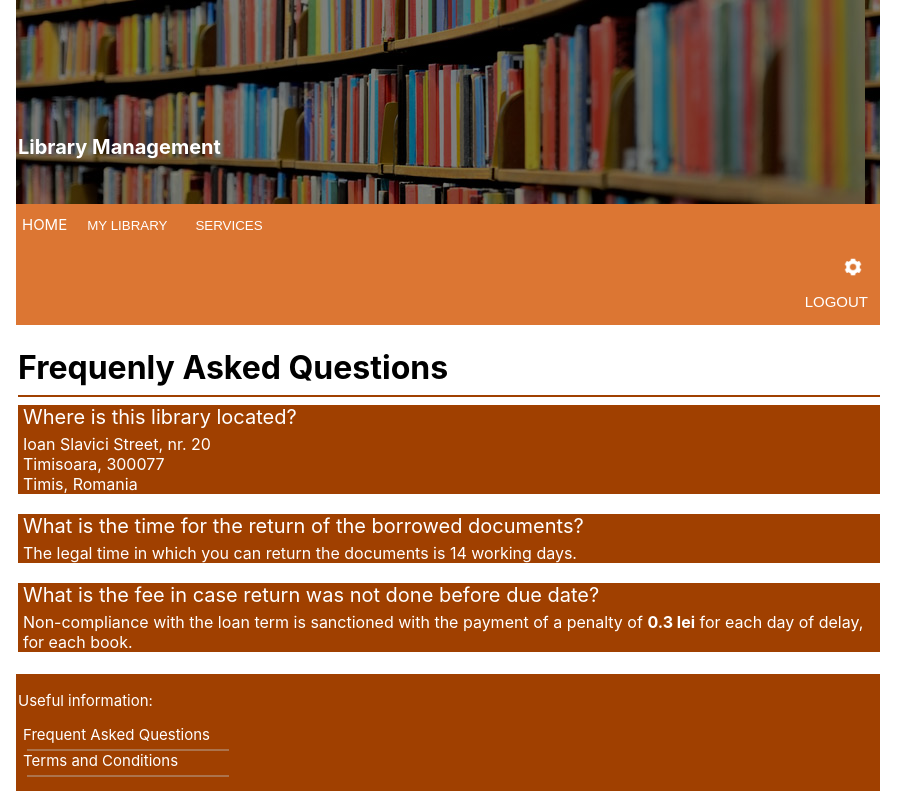
Test: Menu buttons tests › Given any input then the Contact page loads
The width and height of the screenshot is (899, 808).
Click the link "HOME" at (45, 224), box x1=22 y1=215 x2=67 y2=234
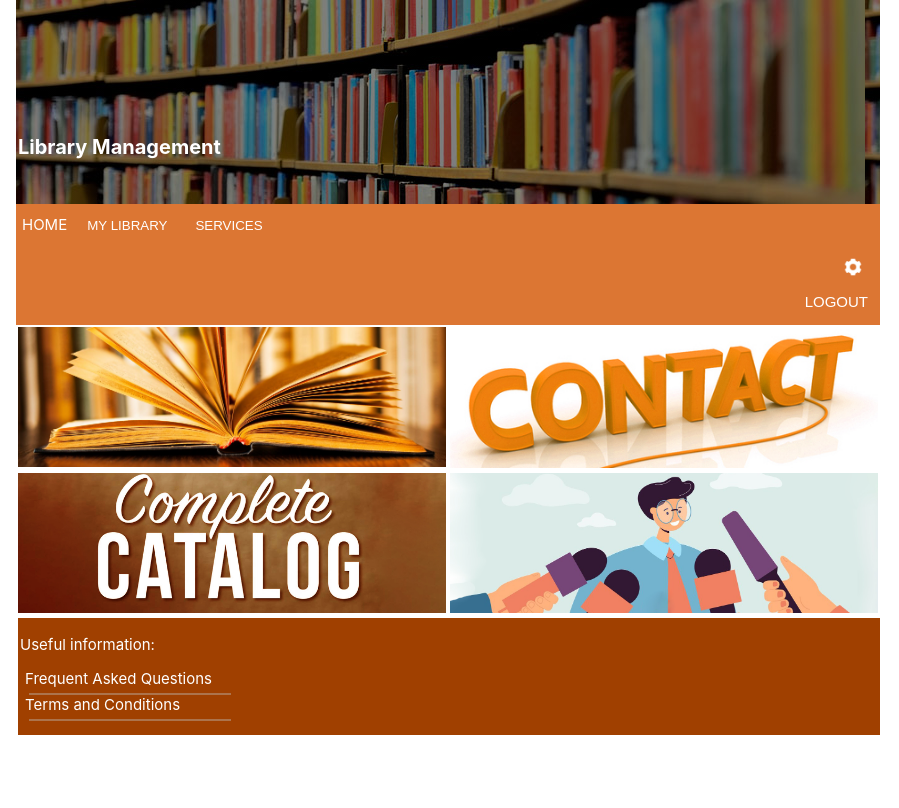
Click the 3rd link "CONTACT" at (666, 397), box x1=450 y1=327 x2=882 y2=468
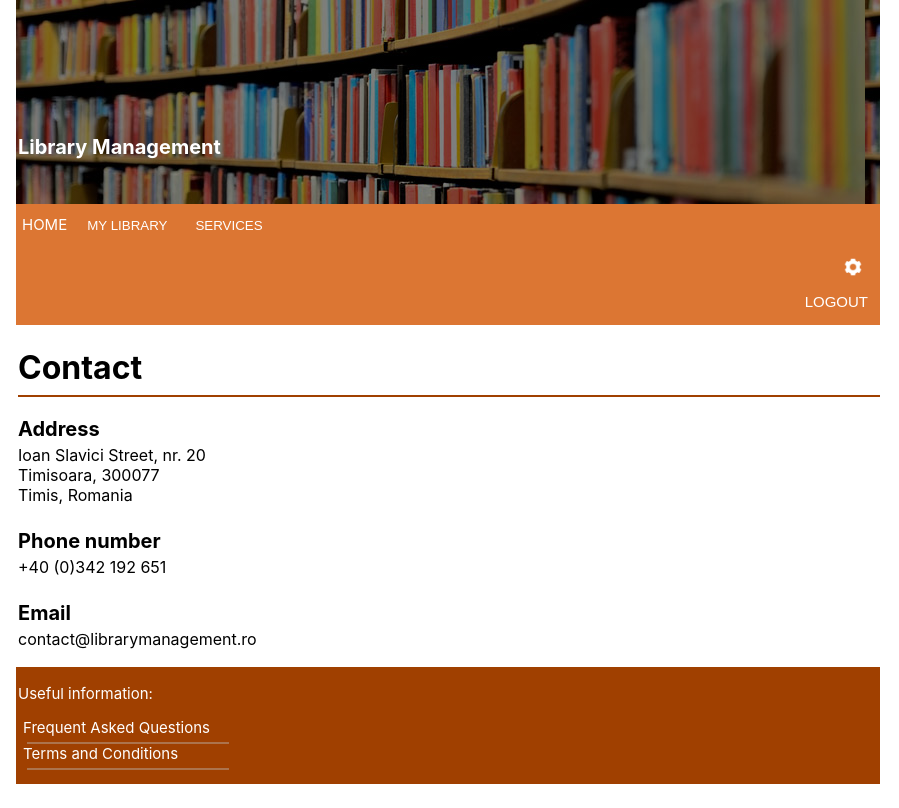
Expected: the text "Phone number" is shown, x1=18 y1=529 x2=161 y2=553
